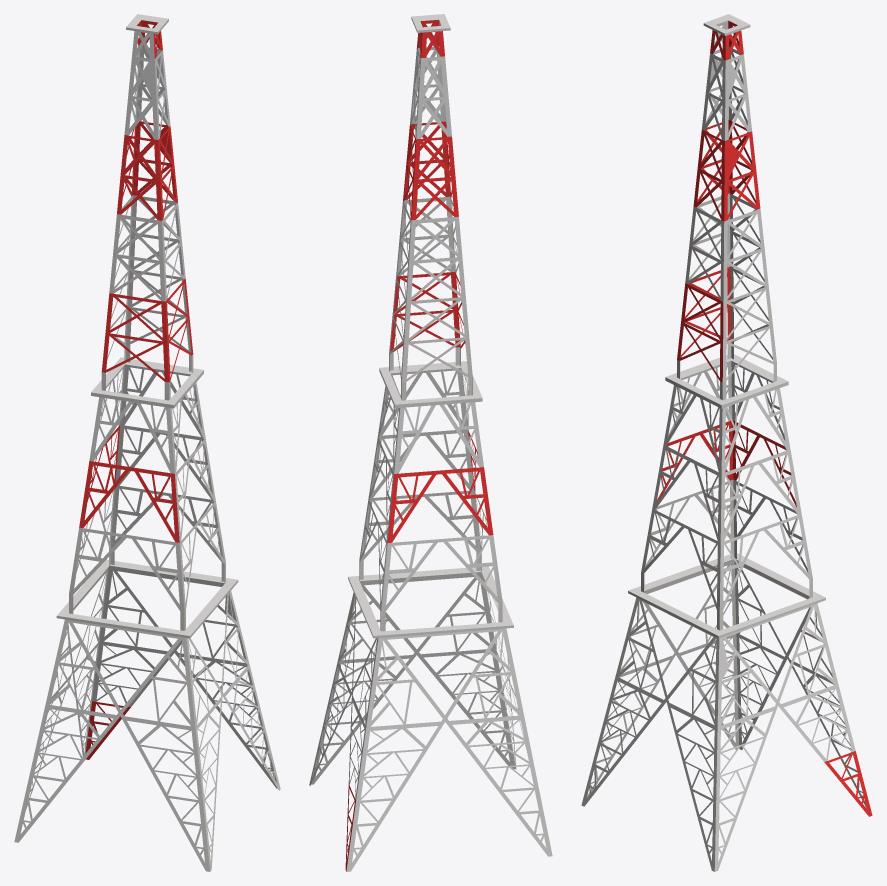
The picture shows the model from 3 angles, left to right: view 1: azimuth 30°, elevation 25°; view 2: azimuth 150°, elevation 25°; view 3: azimuth 270°, elevation 25°; orthographic projection.
Visible parts, largest first — view 1: download_mid_1aadf5ed56fa2101eed7799a27766d6a_ctyp_sm_cv_p8_0_00; view 2: download_mid_1aadf5ed56fa2101eed7799a27766d6a_ctyp_sm_cv_p8_0_00; view 3: download_mid_1aadf5ed56fa2101eed7799a27766d6a_ctyp_sm_cv_p8_0_00.
Part boxes in pixels (bbox=[...]): download_mid_1aadf5ed56fa2101eed7799a27766d6a_ctyp_sm_cv_p8_0_00: bbox=[14, 14, 280, 871]; download_mid_1aadf5ed56fa2101eed7799a27766d6a_ctyp_sm_cv_p8_0_00: bbox=[309, 14, 552, 871]; download_mid_1aadf5ed56fa2101eed7799a27766d6a_ctyp_sm_cv_p8_0_00: bbox=[581, 14, 872, 871].
Size of the model in its own units: 1274 by 3797 by 1274.
